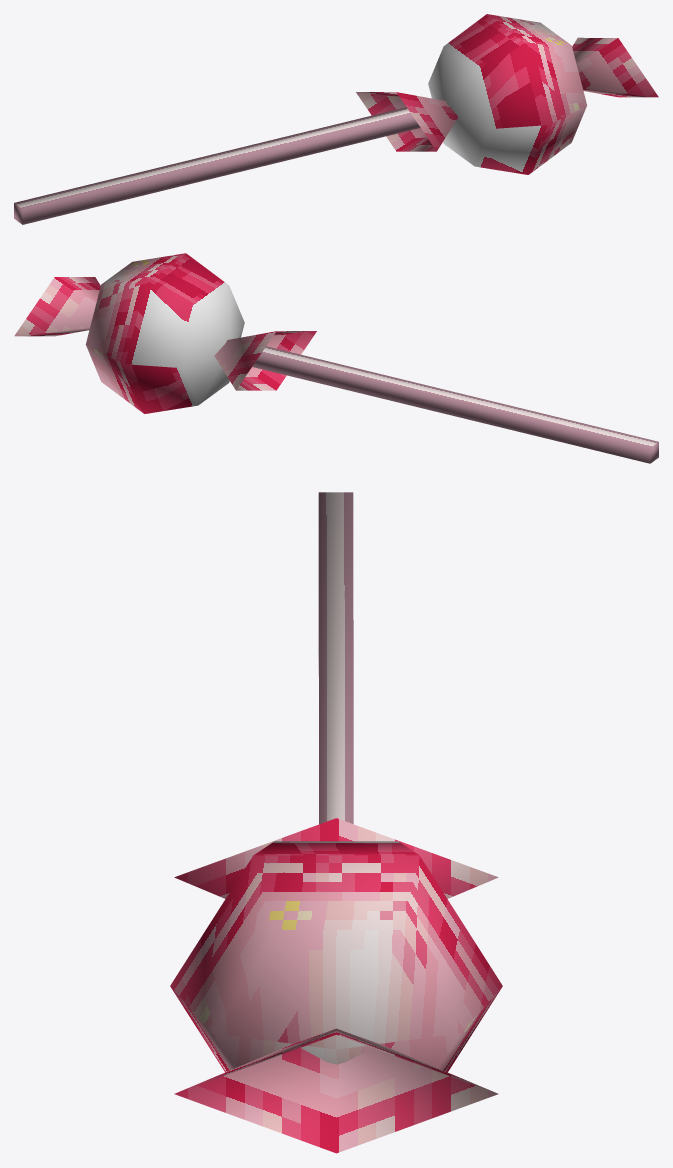
3 views of the same model, one above another, from view 1: azimuth 30°, elevation 25°; view 2: azimuth 150°, elevation 25°; view 3: azimuth 270°, elevation 25° (orthographic). The views are drawn at different scales.
Visible parts, largest first — view 1: 1322sbim03_05_c; view 2: 1322sbim03_05_c; view 3: 1322sbim03_05_c.
Boxes of the visible parts, x1,y1,x2,y2 form: 1322sbim03_05_c: (14, 14, 658, 224); 1322sbim03_05_c: (14, 253, 658, 463); 1322sbim03_05_c: (170, 492, 502, 1153).
Size of the model in its own units: 1.97 by 0.4097 by 0.4731.
1 material, 1 textured.
